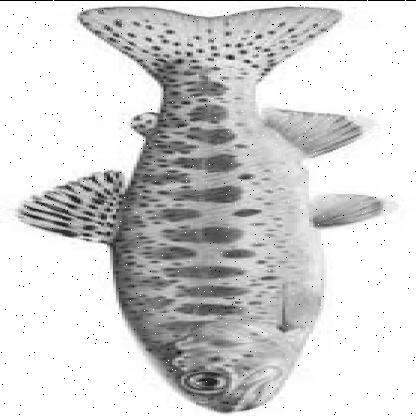fish: (17, 3, 384, 415)
